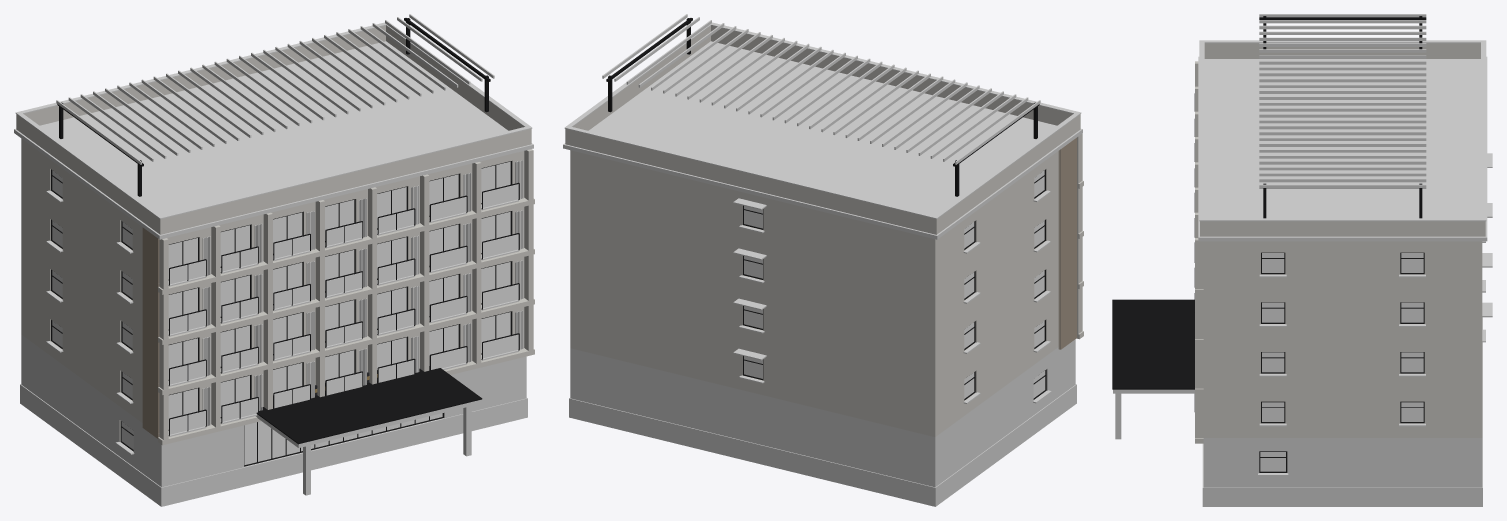
Rendered from hotel_24x16_5.glb.
The picture shows the model from 3 angles, left to right: view 1: azimuth 30°, elevation 25°; view 2: azimuth 150°, elevation 25°; view 3: azimuth 270°, elevation 25°; orthographic projection.
Visible parts, largest first — view 1: hotel_24x16_5; view 2: hotel_24x16_5; view 3: hotel_24x16_5.
Part boxes in pixels (left/top/right/bottom): hotel_24x16_5: left=14, top=14, right=534, bottom=506; hotel_24x16_5: left=563, top=14, right=1083, bottom=506; hotel_24x16_5: left=1112, top=14, right=1492, bottom=506.
Bounding box in the file's own units: 24.6 × 20.24 × 21.86.
